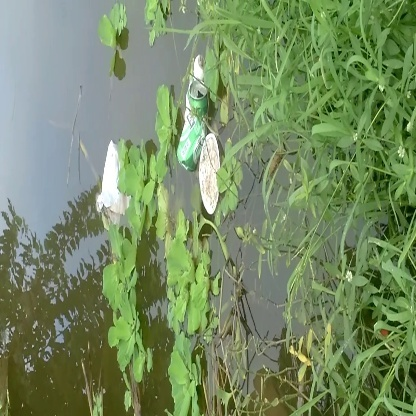bottle: (172, 78, 211, 171)
